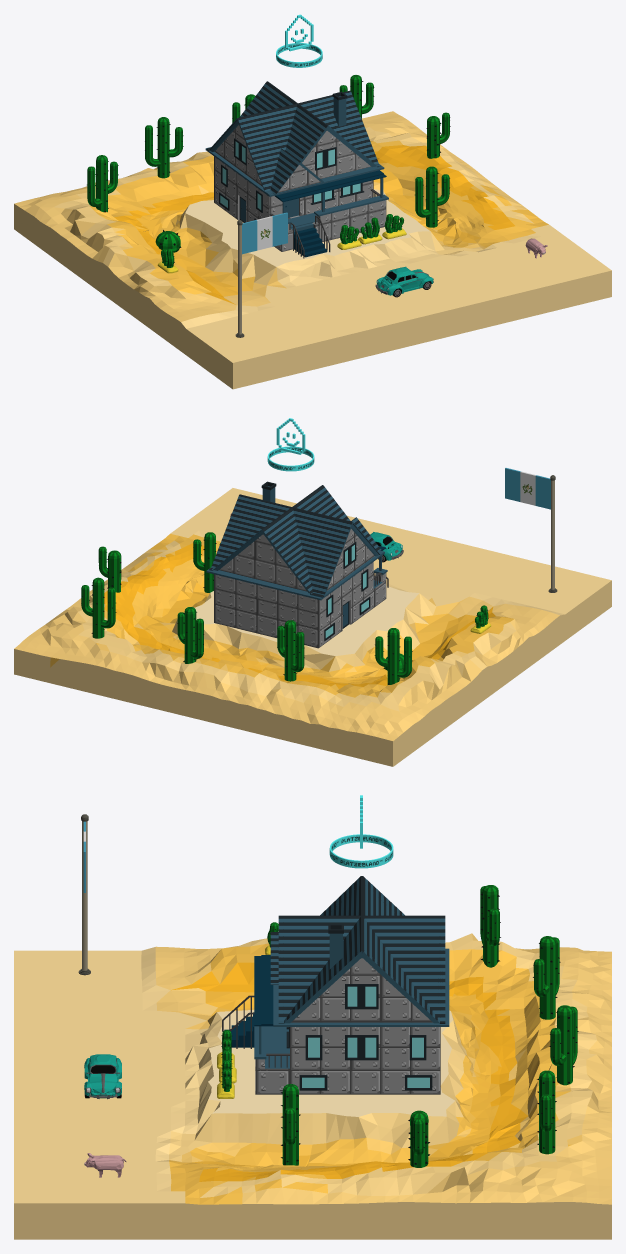
3 renders of one model, top to bottom at view 1: azimuth 30°, elevation 25°; view 2: azimuth 150°, elevation 25°; view 3: azimuth 270°, elevation 25°, orthographic. The views are drawn at different scales.
Visible parts, largest first — view 1: Cube.001, Cube.078, OBJRANDOM_GUATEMALAN_FLAG, Cylinder.044, Cylinder.037, Cylinder.045, VEHICLES_VOLKSWAGEN, TYPE_PREMIUM, Cylinder.038, Cylinder.042; view 2: Cube.001, Cube.078, OBJRANDOM_GUATEMALAN_FLAG, Cylinder.042, Cylinder.045, Cylinder.044, Cylinder.043, TYPE_PREMIUM, Cylinder.037, Cylinder.038, VEHICLES_VOLKSWAGEN; view 3: Cube.001, Cube.078, Cylinder.044, Cylinder.043, VEHICLES_VOLKSWAGEN, Cylinder.045, Cylinder.042, Cylinder.037, TYPE_PREMIUM, Cylinder.038, OBJRANDOM_GUATEMALAN_FLAG, ANIMAL_CERDO.
Part boxes in pixels (x1=…): Cube.001: x1=14, y1=111, x2=611, y2=389; Cube.078: x1=205, y1=81, x2=388, y2=258; OBJRANDOM_GUATEMALAN_FLAG: x1=235, y1=212, x2=287, y2=337; Cylinder.044: x1=145, y1=117, x2=183, y2=178; Cylinder.037: x1=415, y1=166, x2=449, y2=227; Cylinder.045: x1=87, y1=155, x2=118, y2=212; VEHICLES_VOLKSWAGEN: x1=375, y1=266, x2=433, y2=297; TYPE_PREMIUM: x1=276, y1=14, x2=322, y2=67; Cylinder.038: x1=426, y1=112, x2=450, y2=158; Cylinder.042: x1=339, y1=75, x2=374, y2=118; Cube.001: x1=14, y1=488, x2=611, y2=766; Cube.078: x1=206, y1=481, x2=388, y2=648; OBJRANDOM_GUATEMALAN_FLAG: x1=505, y1=468, x2=557, y2=592; Cylinder.042: x1=81, y1=577, x2=116, y2=638; Cylinder.045: x1=374, y1=628, x2=412, y2=684; Cylinder.044: x1=277, y1=620, x2=304, y2=681; Cylinder.043: x1=177, y1=607, x2=203, y2=663; TYPE_PREMIUM: x1=267, y1=418, x2=314, y2=471; Cylinder.037: x1=193, y1=532, x2=220, y2=592; Cylinder.038: x1=98, y1=546, x2=121, y2=592; VEHICLES_VOLKSWAGEN: x1=370, y1=532, x2=403, y2=562; Cube.001: x1=14, y1=933, x2=611, y2=1239; Cube.078: x1=222, y1=876, x2=449, y2=1094; Cylinder.044: x1=533, y1=936, x2=560, y2=1019; Cylinder.043: x1=549, y1=1005, x2=578, y2=1085; VEHICLES_VOLKSWAGEN: x1=84, y1=1054, x2=121, y2=1099; Cylinder.045: x1=480, y1=885, x2=500, y2=967; Cylinder.042: x1=537, y1=1070, x2=556, y2=1154; Cylinder.037: x1=281, y1=1084, x2=300, y2=1165; TYPE_PREMIUM: x1=329, y1=795, x2=393, y2=868; Cylinder.038: x1=408, y1=1110, x2=429, y2=1167; OBJRANDOM_GUATEMALAN_FLAG: x1=78, y1=814, x2=90, y2=975; ANIMAL_CERDO: x1=84, y1=1153, x2=126, y2=1177.
Size of the model in its own units: 4002 by 2437 by 4001.
37 materials, 5 textured.
